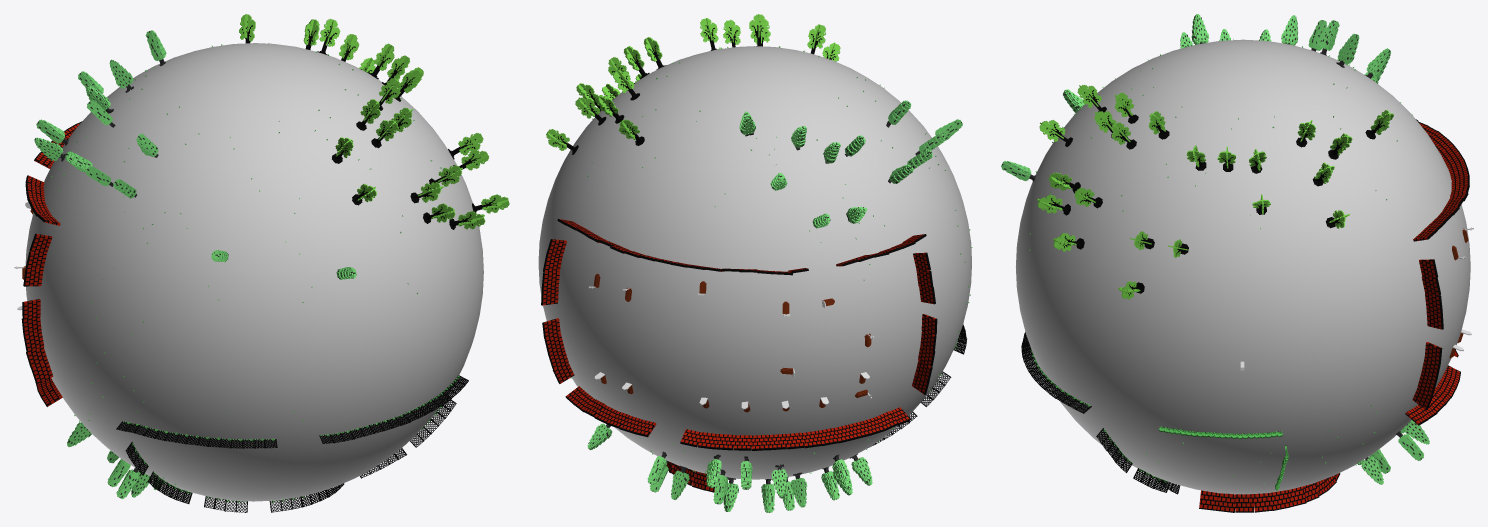
The model's file is f13_world_full.FBX.
The picture shows the model from 3 angles, left to right: view 1: azimuth 30°, elevation 25°; view 2: azimuth 150°, elevation 25°; view 3: azimuth 270°, elevation 25°; orthographic projection. The views are drawn at different scales.
Visible parts, largest first — view 1: GeoSphere001; view 2: GeoSphere001; view 3: GeoSphere001.
Part boxes in pixels (bbox=[...]): GeoSphere001: bbox=[25, 43, 483, 501]; GeoSphere001: bbox=[538, 46, 971, 479]; GeoSphere001: bbox=[1016, 39, 1470, 494].
Bounding box in the file's own units: 6811 × 6712 × 6653.
